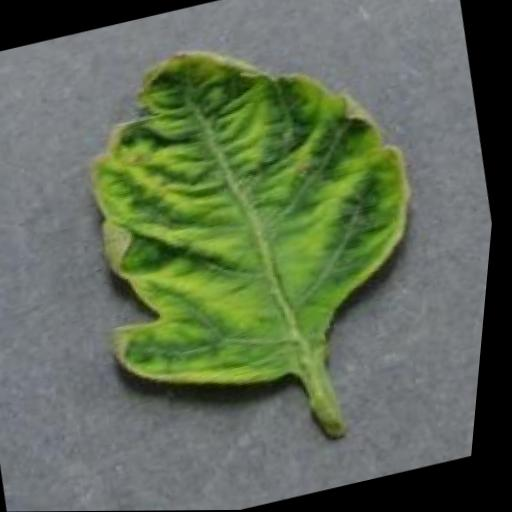Yellow Leaf Curl Virus: (50, 1, 465, 423)
